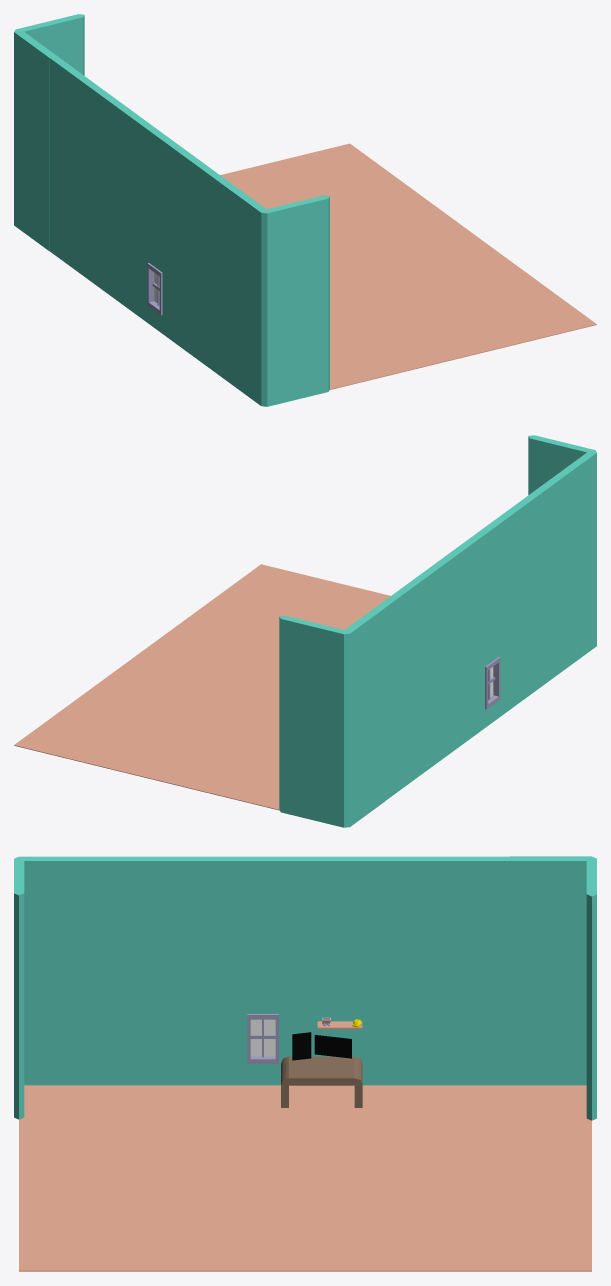
Rendered from room2.glb.
The picture shows the model from 3 angles, top to bottom: view 1: azimuth 30°, elevation 25°; view 2: azimuth 150°, elevation 25°; view 3: azimuth 270°, elevation 25°; orthographic projection. The views are drawn at different scales.
Visible parts, largest first — view 1: room; view 2: room; view 3: room.
Boxes of the visible parts, bbox=[...] form: room: bbox=[14, 14, 596, 406]; room: bbox=[14, 435, 596, 827]; room: bbox=[14, 856, 596, 1271].
Bounding box in the file's own units: 5.52 × 3.03 × 7.13.
